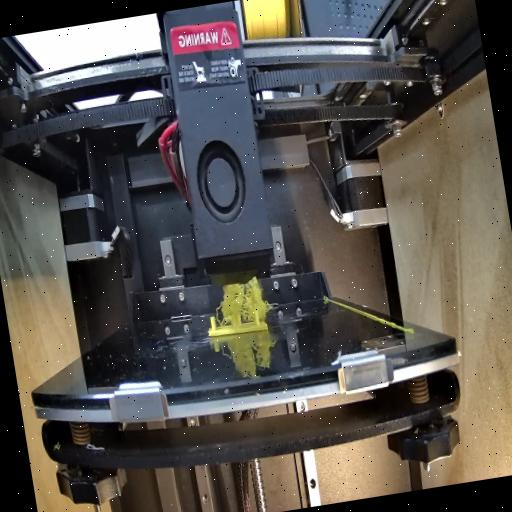spaghetti: (214, 274, 272, 326)
